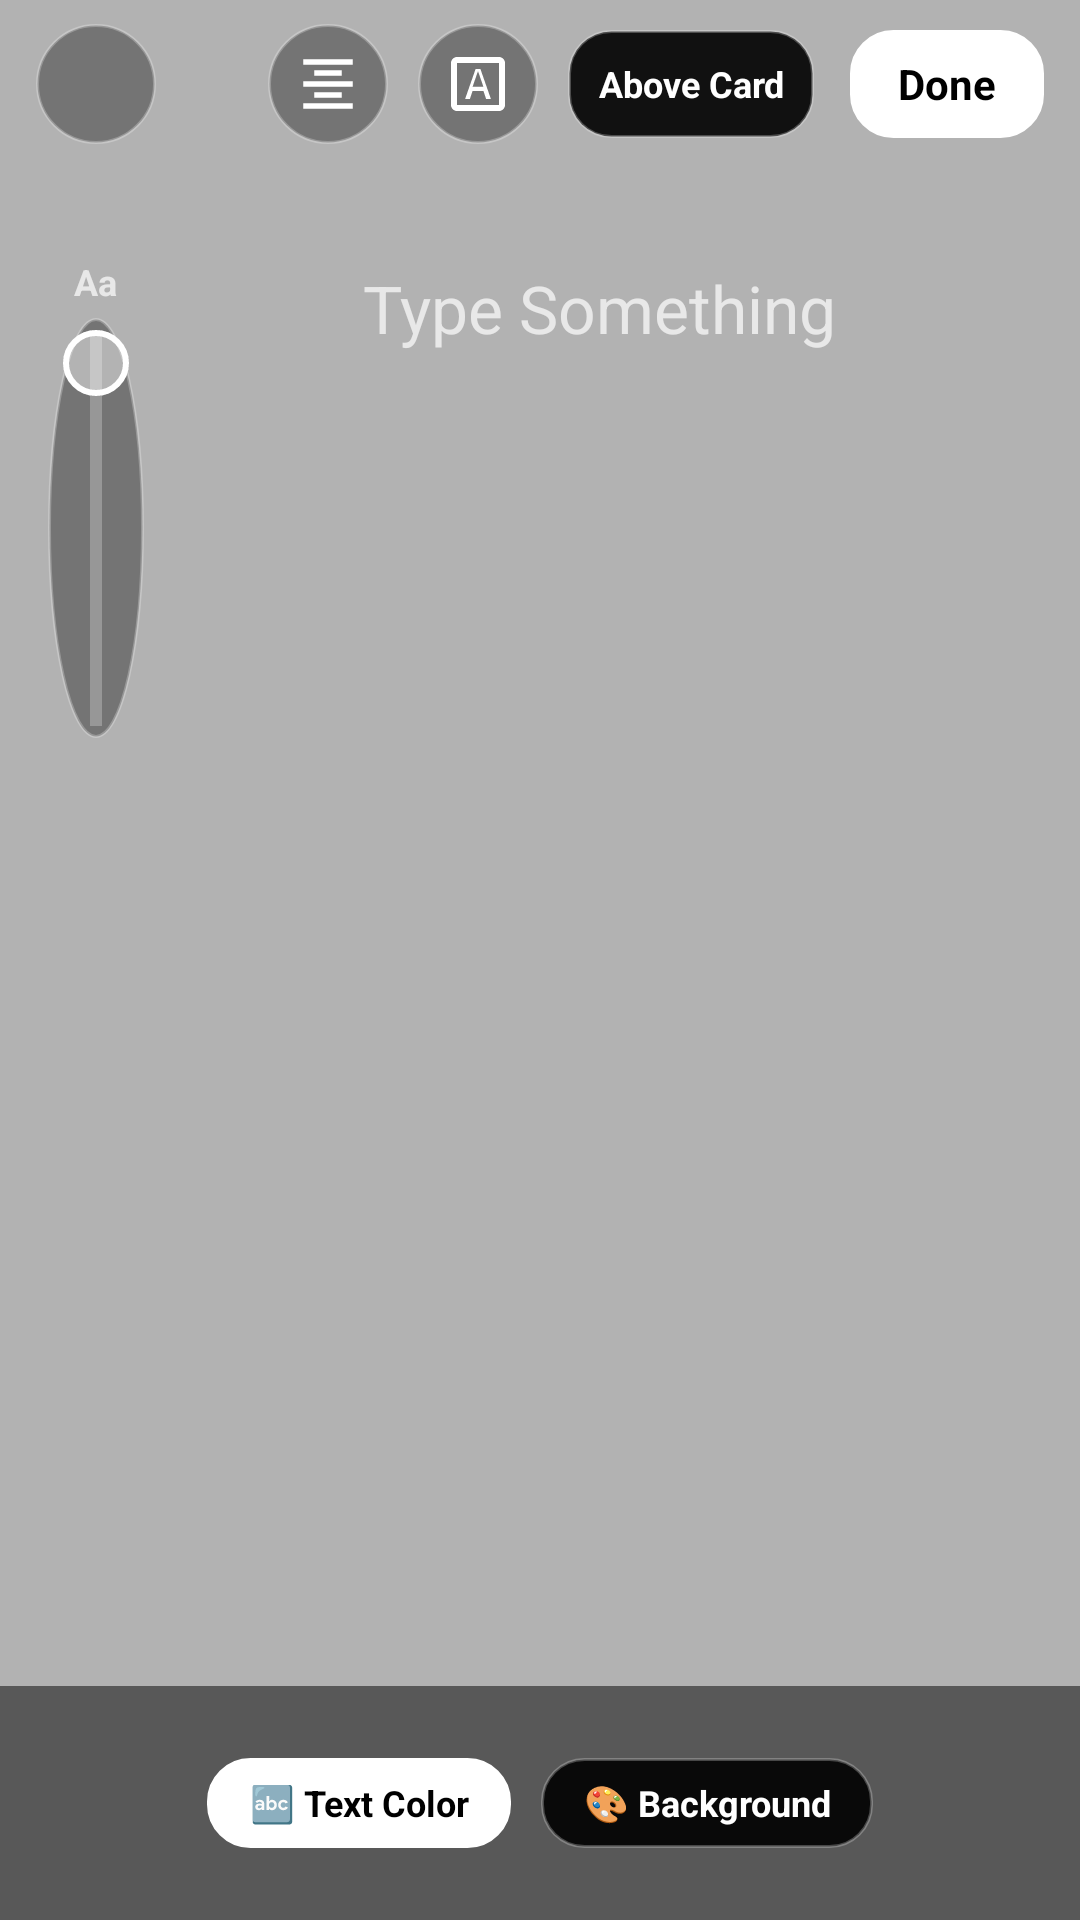

Where to tap for icons on this 1080x1920 app screen, as [x,y]:
Toggle Alignment: [328,84]
